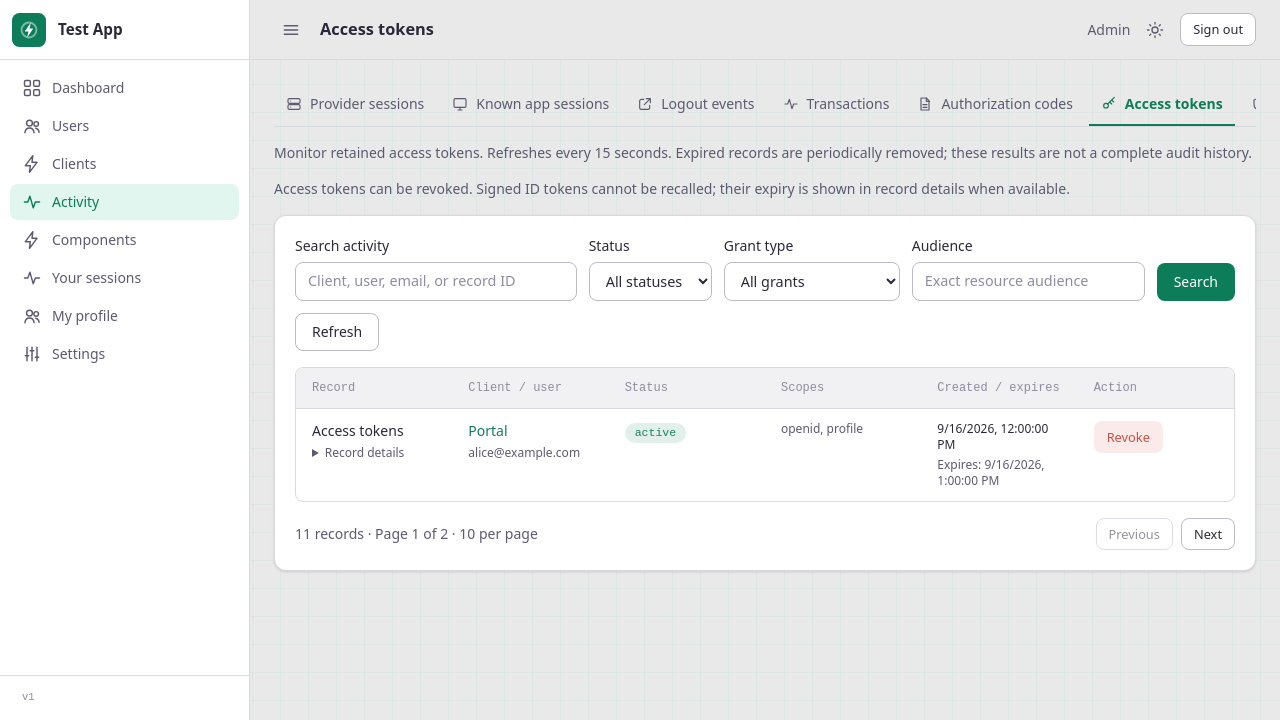
Scenario: admin activity monitoring › confirms revocation and refreshes the list and dashboard cache
Click the button "Revoke" at (1128, 437), box [1094,421,1163,453]
(page scrolled)
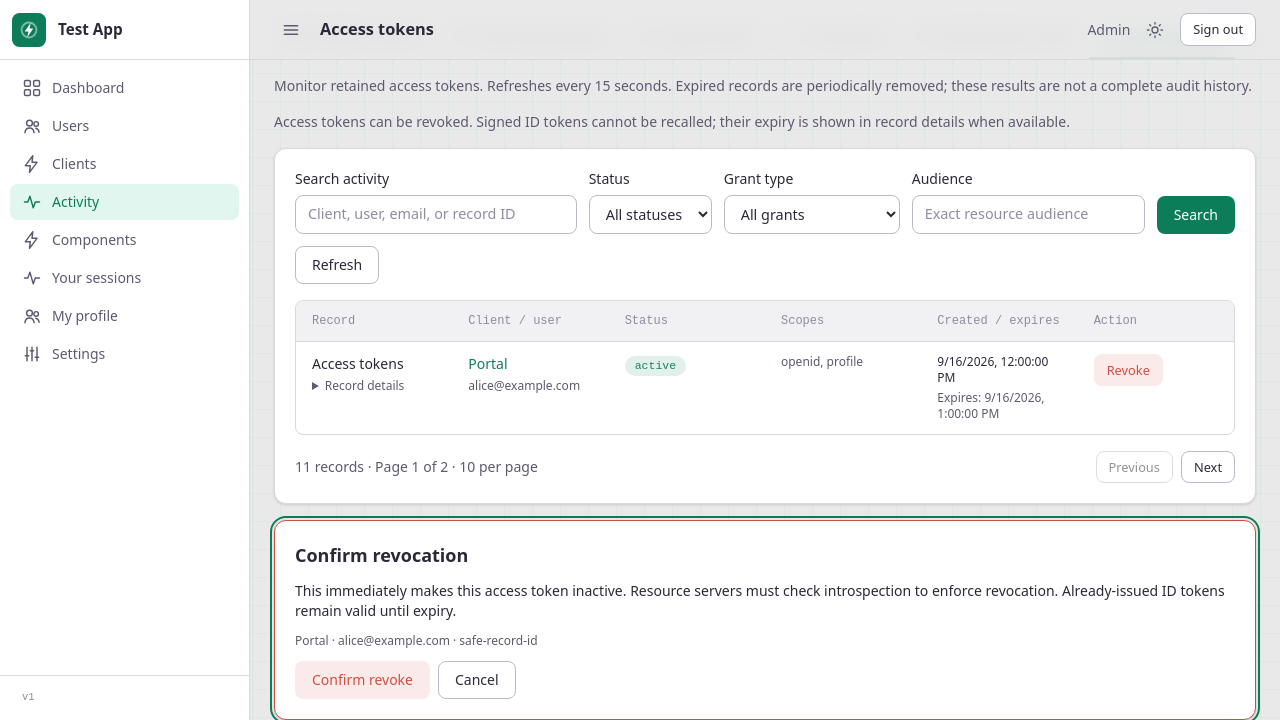
Expected: the dialog "Confirm revocation" is shown, [274,520,1256,719]
Click the button "Cancel" at (477, 680), box [438,661,516,699]
(page scrolled)
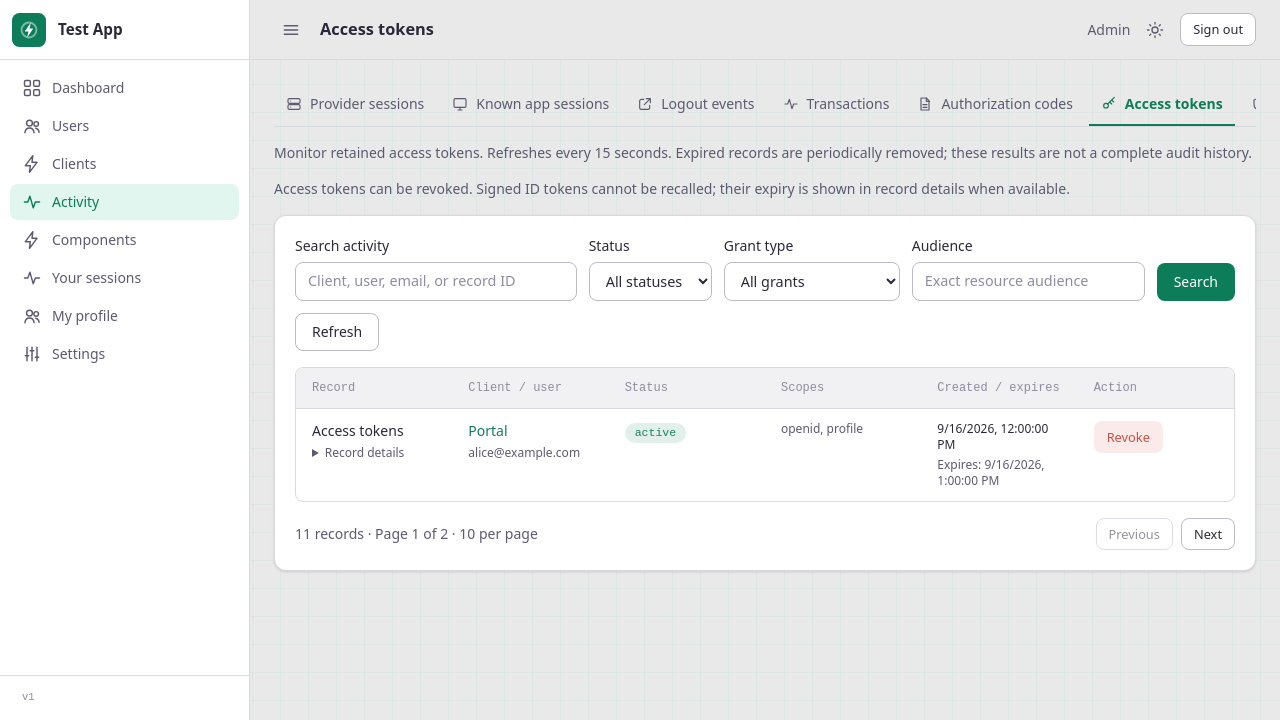
Click the button "Revoke" at (1128, 437), box [1094,421,1163,453]
(page scrolled)
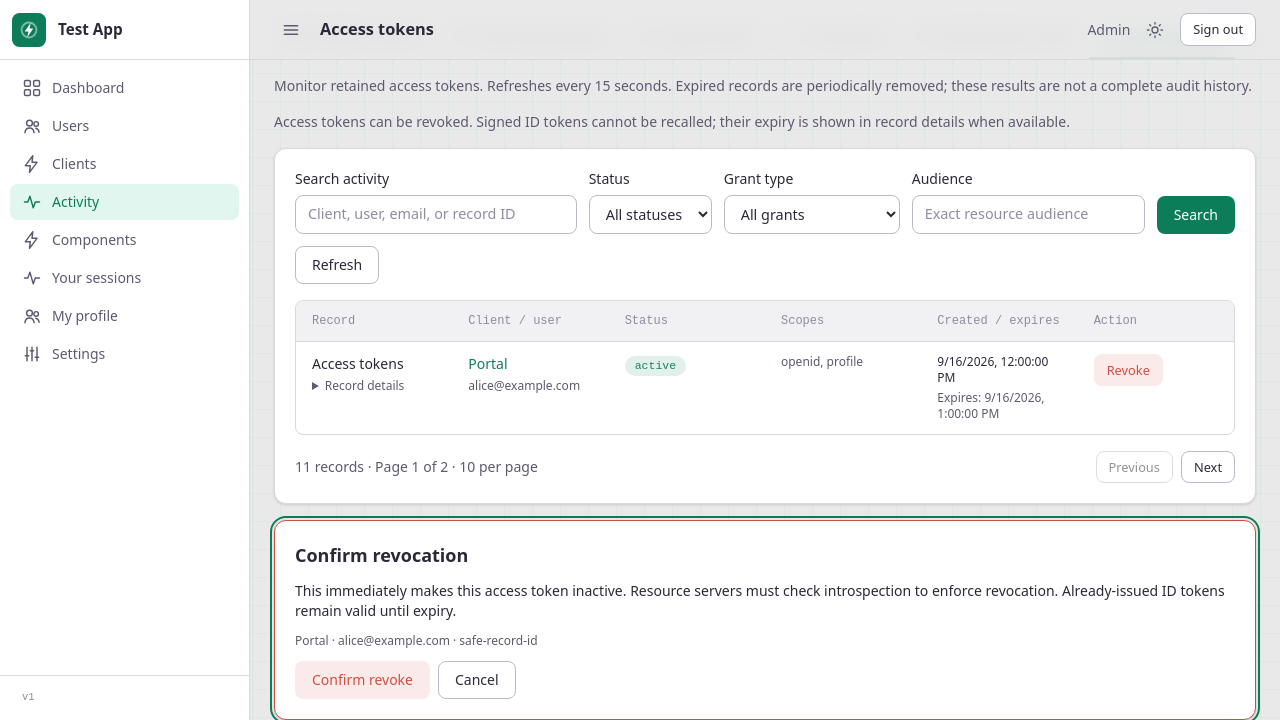
Click the button "Confirm revoke" at (362, 680), box [295,661,430,699]
(page scrolled)
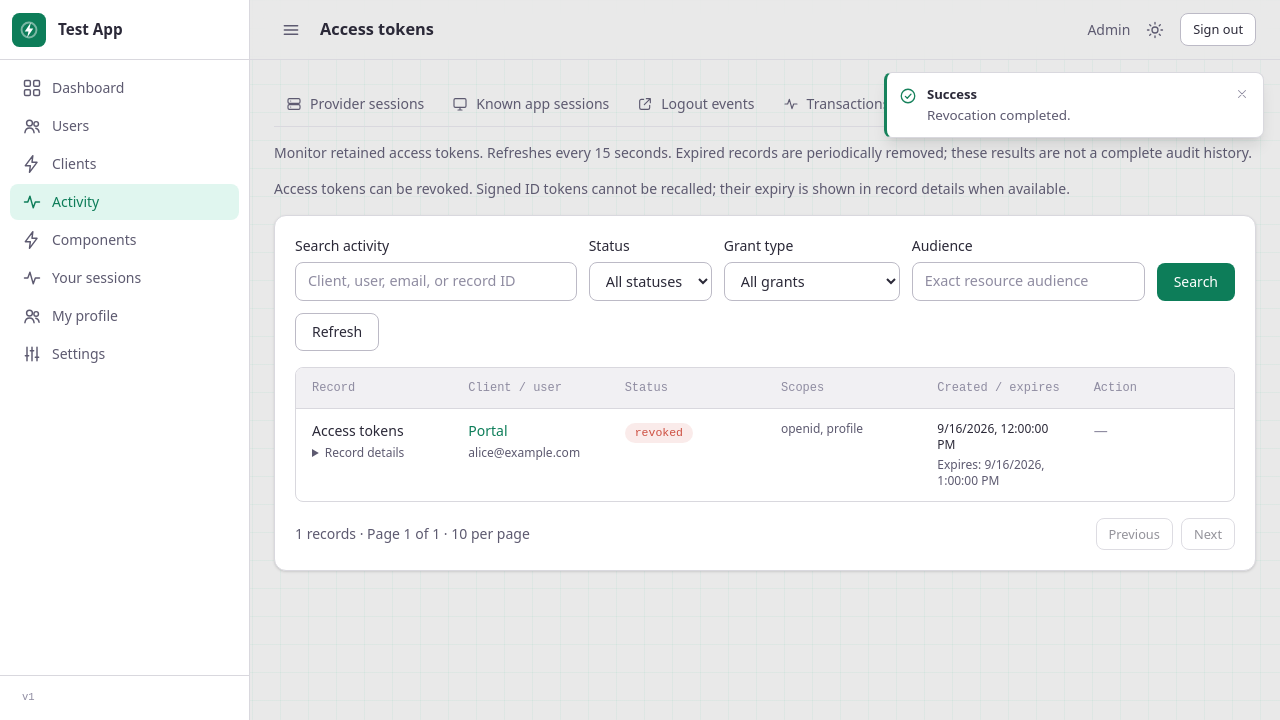
Expected: the text "Revocation completed." is shown, [927,105,1071,125]
Expected: the text "revoked" is shown, [625,423,693,443]
